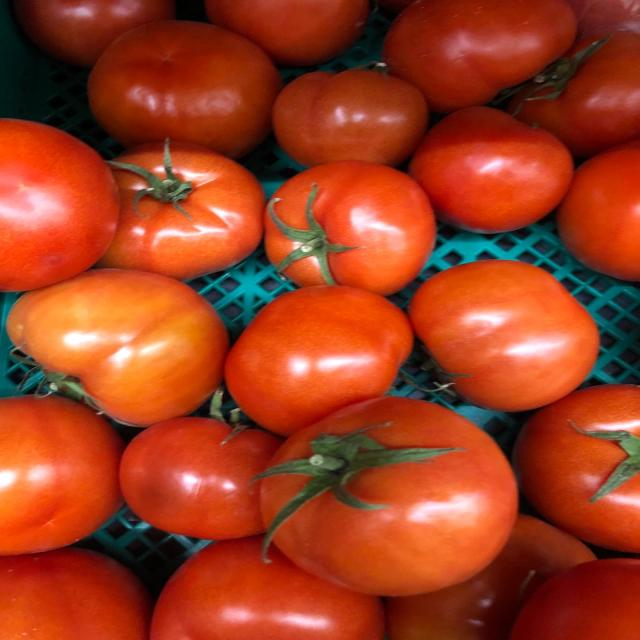tomato: (254, 396, 526, 595), (11, 255, 236, 429), (210, 264, 418, 430), (72, 8, 291, 157), (404, 250, 604, 409), (247, 144, 436, 297), (72, 133, 265, 278), (403, 90, 581, 231), (264, 49, 441, 170)
